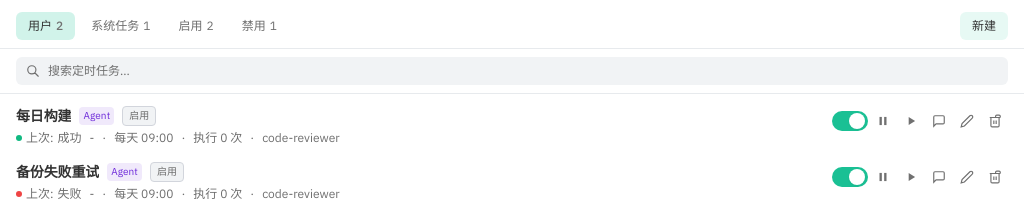
Test: 筛选即统计 › 计数随筛选（搜索）变化，筛选结果与计数始终一致
The image size is (1024, 216).
Type "备份" into the field with placeholder "搜索定时任务...".
click(512, 71); type("备份")  # box 16,57 -> 1008,85
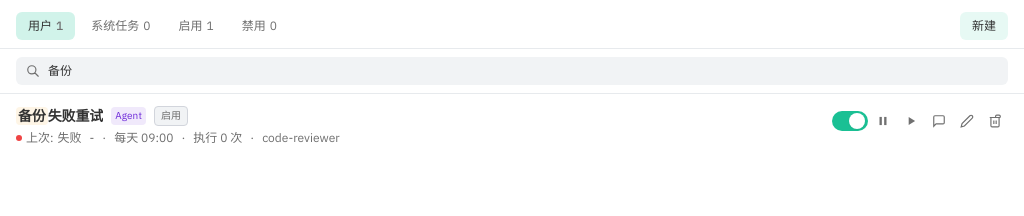
Check: the text "失败重试" is shown, box 48,107 -> 103,125
Check: the button "每日构建" is gone
